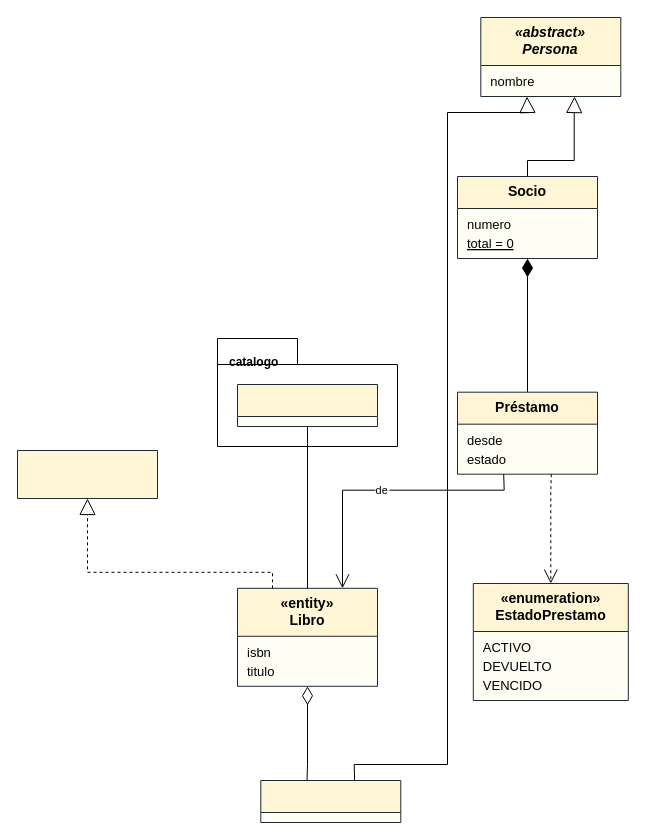
Some shapes in this 646 by 840 pixel diagram are drawn without their labels. The centre of each missing label's shape, as x and y in pixels:
"Autor" belongs at (330,801).
"Ejemplar" belongs at (307,405).
"«interface» Prestable" belongs at (87,474).
